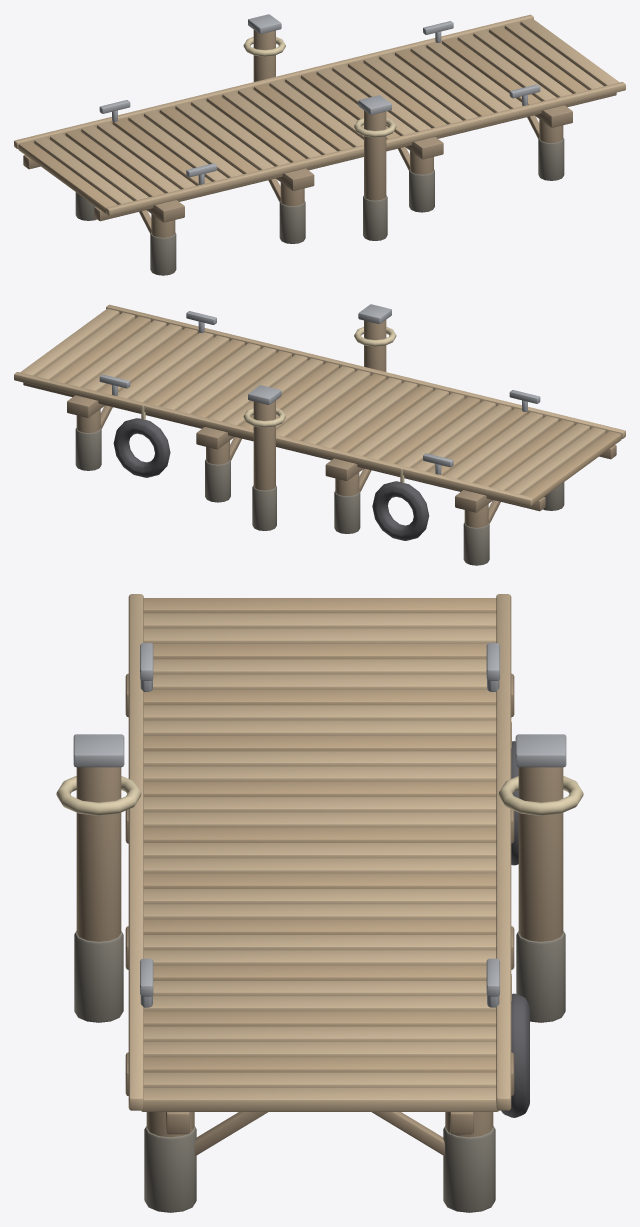
The model's file is th15_steg.glb.
3 renders of one model, top to bottom at view 1: azimuth 30°, elevation 25°; view 2: azimuth 150°, elevation 25°; view 3: azimuth 270°, elevation 25°, orthographic. The views are drawn at different scales.
Visible parts, largest first — view 1: Cube.047, Cube.048, Cylinder.016, Cube.014, Cube.012, Cube.027, Cube.043, Cube.037, Cube.045, Cube.016, Cube.017, Cube.025 (+44 smaller); view 2: Cube.048, Cube.047, Torus.002, Torus.003, Cylinder.018, Cube.014, Cube.013, Cube.027, Cube.043, Cube.037, Cube.045, Cube.016 (+46 smaller); view 3: Cube.046, Cube.047, Cube.048, Cylinder.016, Cylinder.018, Cube.015, Cube.021, Cube.024, Cube.028, Cube.031, Cube.034, Cube.041 (+36 smaller).
Boxes of the visible parts, bbox=[...] form: Cube.047: bbox=[106, 82, 625, 216]; Cube.048: bbox=[14, 14, 533, 148]; Cylinder.016: bbox=[364, 110, 386, 200]; Cube.014: bbox=[18, 141, 117, 213]; Cube.012: bbox=[94, 92, 616, 221]; Cube.027: bbox=[222, 91, 321, 158]; Cube.043: bbox=[473, 30, 572, 97]; Cube.037: bbox=[379, 53, 478, 120]; Cube.045: bbox=[504, 22, 603, 89]; Cube.016: bbox=[50, 133, 148, 200]; Cube.017: bbox=[65, 129, 164, 196]; Cube.025: bbox=[191, 99, 290, 166]; Cube.048: bbox=[14, 372, 533, 506]; Cube.047: bbox=[106, 304, 625, 438]; Torus.002: bbox=[372, 481, 429, 540]; Torus.003: bbox=[113, 418, 170, 477]; Cylinder.018: bbox=[253, 400, 275, 490]; Cube.014: bbox=[522, 431, 621, 503]; Cube.013: bbox=[23, 382, 545, 511]; Cube.027: bbox=[318, 381, 417, 448]; Cube.043: bbox=[67, 320, 166, 387]; Cube.037: bbox=[161, 343, 260, 410]; Cube.045: bbox=[36, 312, 135, 379]; Cube.016: bbox=[491, 423, 589, 490]; Cube.046: bbox=[141, 1088, 498, 1111]; Cube.047: bbox=[128, 594, 143, 1110]; Cube.048: bbox=[496, 594, 511, 1110]; Cylinder.016: bbox=[76, 767, 121, 941]; Cylinder.018: bbox=[518, 767, 563, 941]; Cube.015: bbox=[143, 613, 496, 628]; Cube.021: bbox=[143, 705, 496, 720]; Cube.024: bbox=[143, 751, 496, 766]; Cube.028: bbox=[143, 812, 496, 827]; Cube.031: bbox=[143, 858, 496, 873]; Cube.034: bbox=[143, 904, 496, 919]; Cube.041: bbox=[143, 1011, 496, 1026].
Size of the model in its own units: 8 by 1.99 by 3.53.
